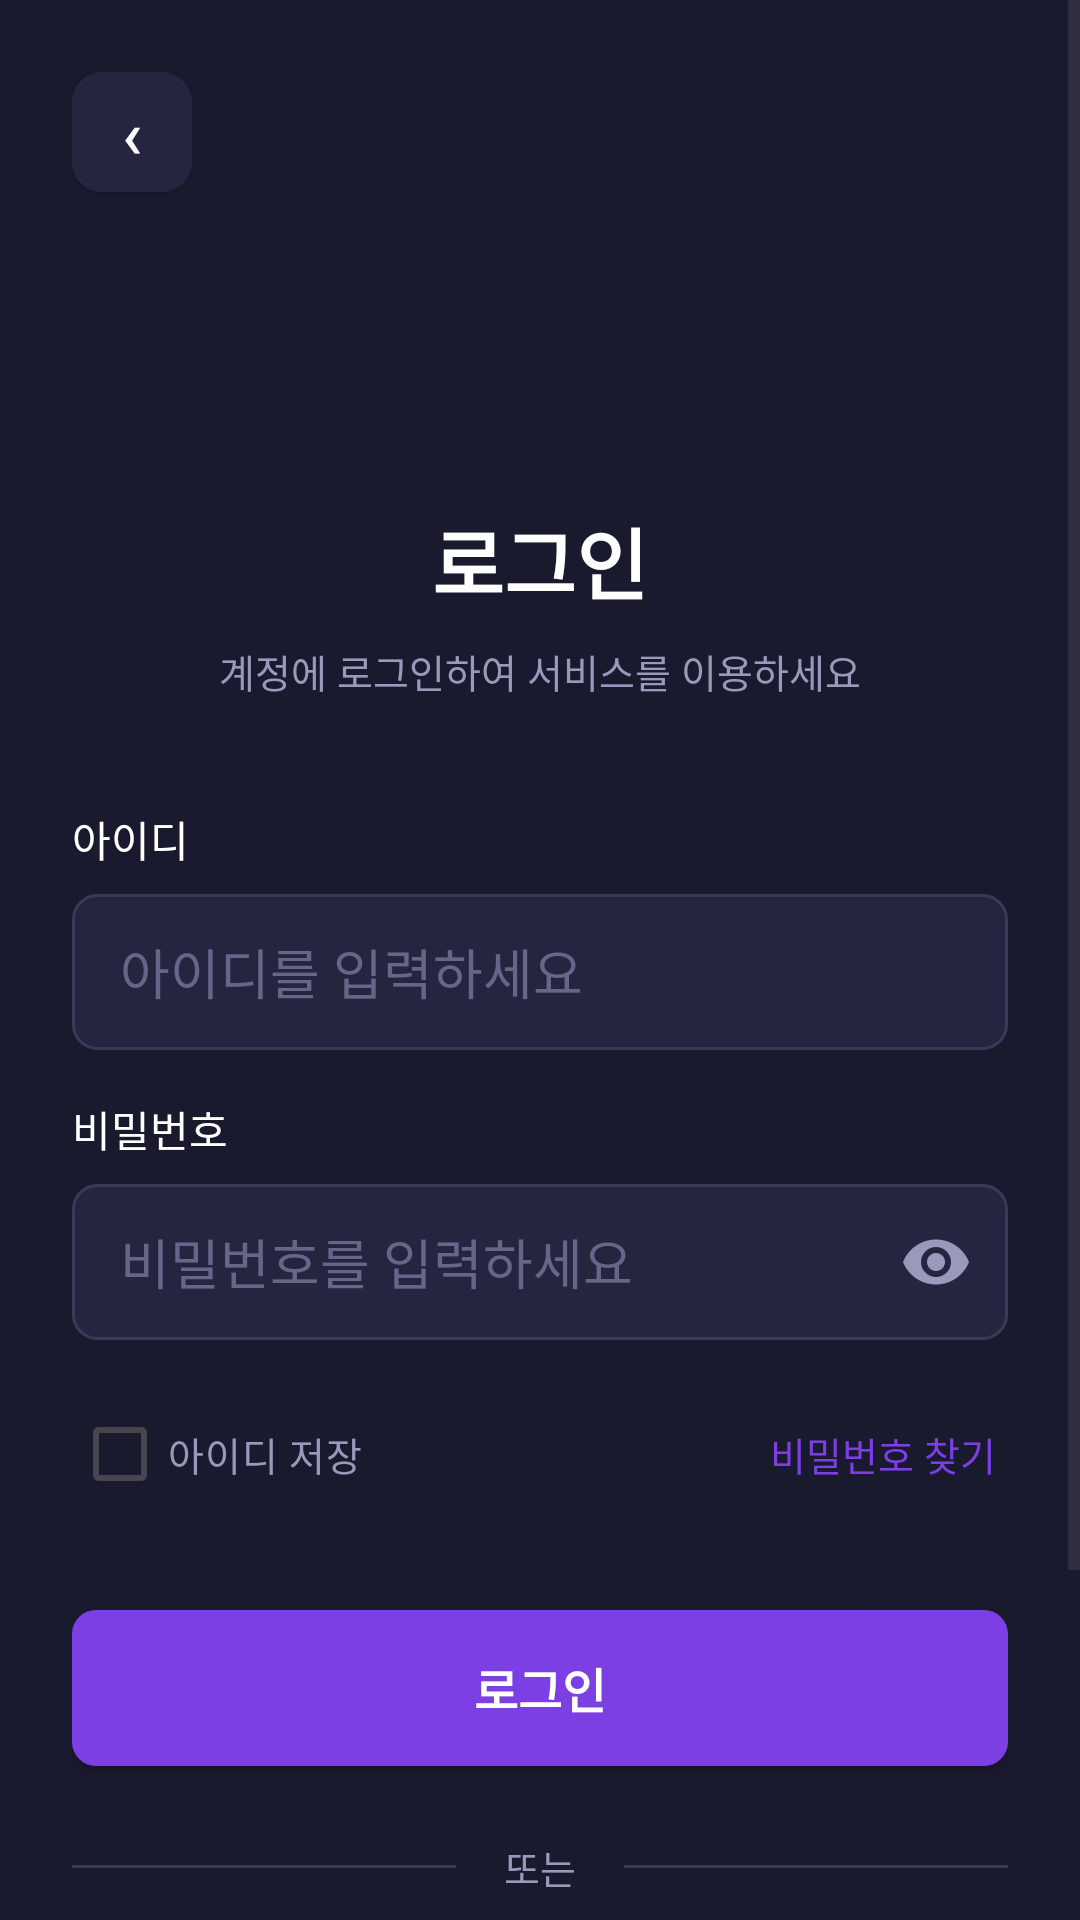

Screen size 1080px x 1920px. Icon name, then its center in pixels as [x,y]:
비밀번호 표시: [936,1262]
